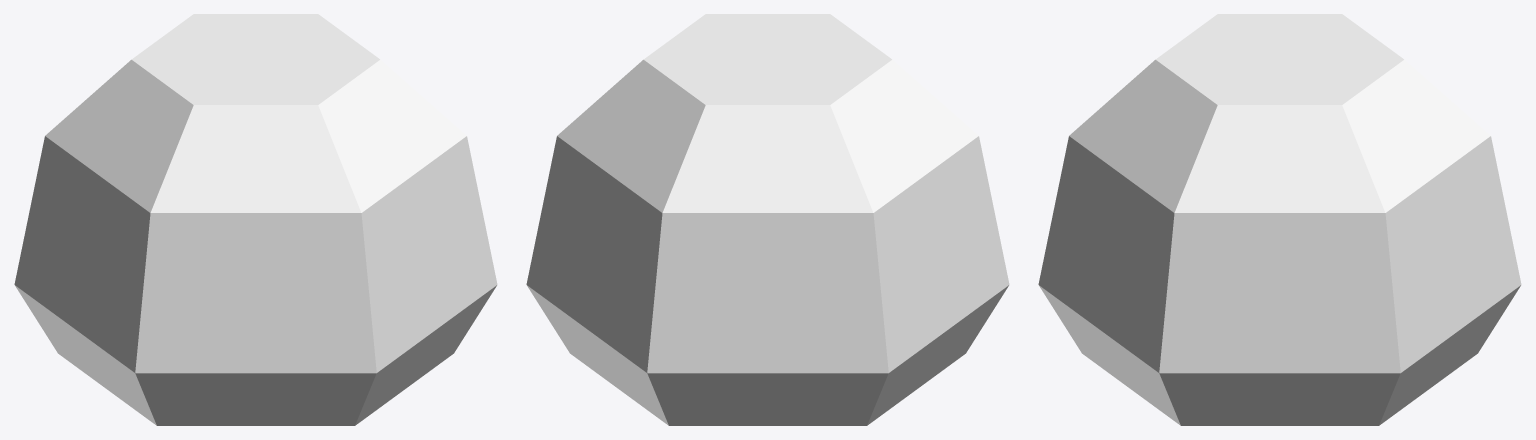
File: asteroid7.glb
3 renders of one model, left to right at view 1: azimuth 30°, elevation 25°; view 2: azimuth 150°, elevation 25°; view 3: azimuth 270°, elevation 25°, orthographic.
Parts seen in each view (by area): view 1: mergedBlocks(Clone); view 2: mergedBlocks(Clone); view 3: mergedBlocks(Clone).
Part boxes in pixels (x1,y1,x2,y2): mergedBlocks(Clone): [14, 14, 497, 425]; mergedBlocks(Clone): [526, 14, 1009, 425]; mergedBlocks(Clone): [1038, 14, 1521, 425].
Bounding box in the file's own units: 0.3583 × 0.2778 × 0.4138.
Materials: 1 (1 with a texture image).
